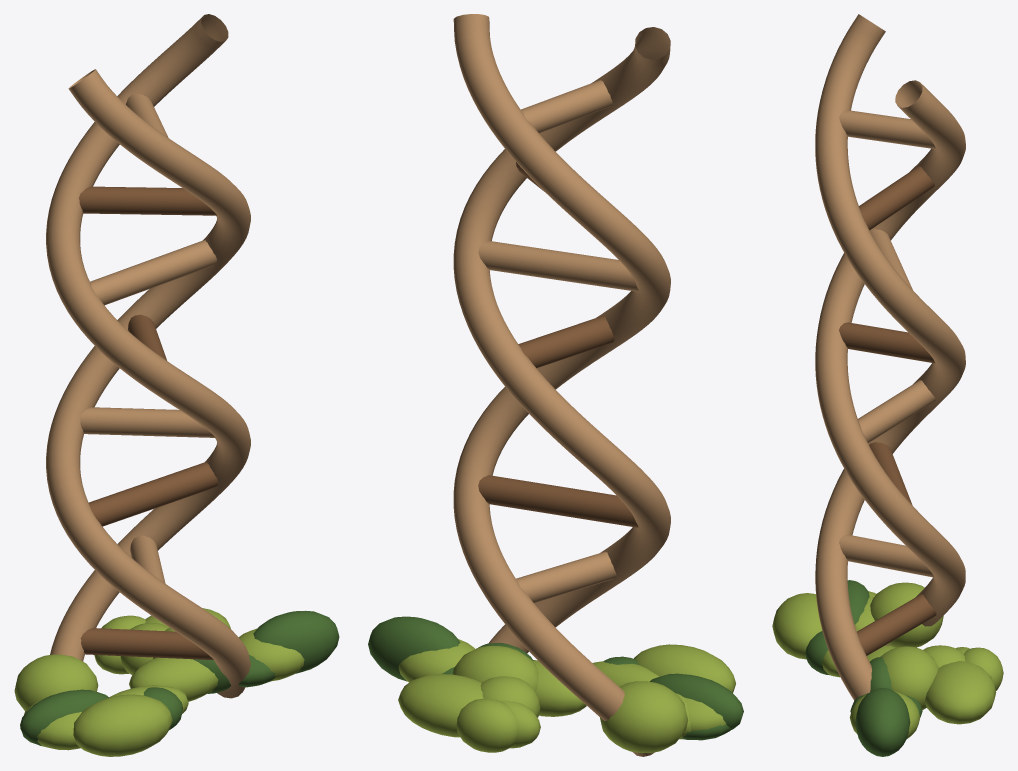
Rendered from wood-dna-ladder.norm.glb.
3 views of the same model, side by side, from view 1: azimuth 30°, elevation 25°; view 2: azimuth 150°, elevation 25°; view 3: azimuth 270°, elevation 25° (orthographic). The views are drawn at different scales.
Bounding box in the file's own units: 113 × 216 × 70.37.
